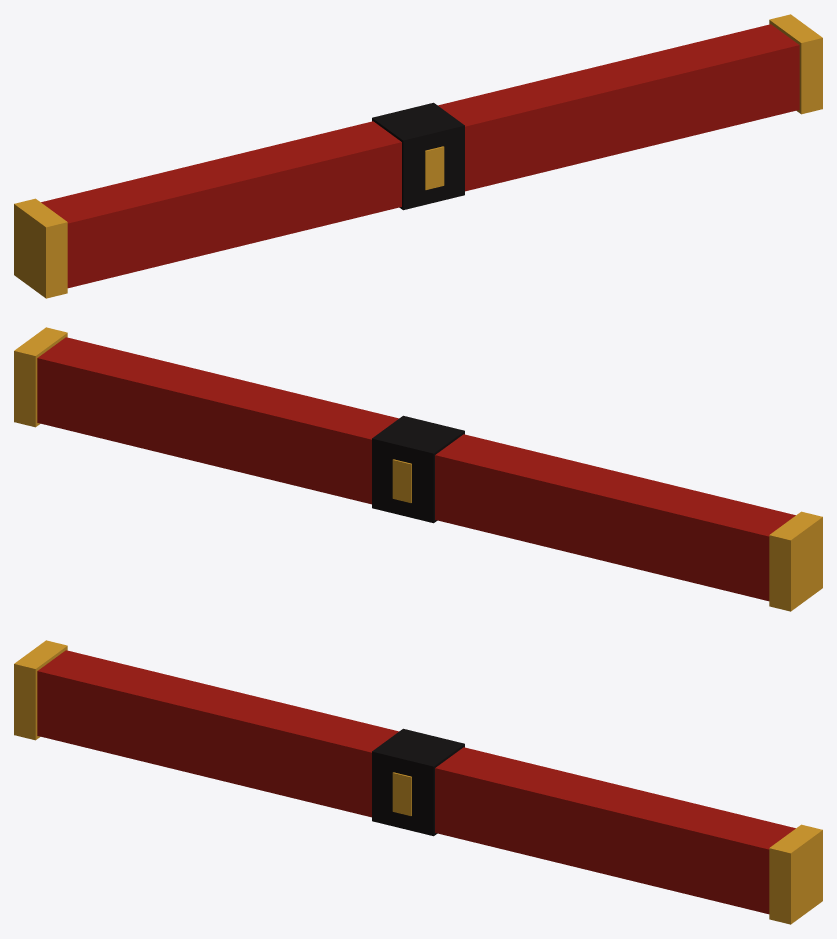
The model's file is SM_Bld_Lacquer_Beam_01.fbx.
The picture shows the model from 3 angles, top to bottom: view 1: azimuth 30°, elevation 25°; view 2: azimuth 150°, elevation 25°; view 3: azimuth 330°, elevation 25°; orthographic projection.
Visible parts, largest first — view 1: SM_Bld_Lacquer_Beam_01; view 2: SM_Bld_Lacquer_Beam_01; view 3: SM_Bld_Lacquer_Beam_01.
Boxes of the visible parts, bbox=[...] form: SM_Bld_Lacquer_Beam_01: bbox=[14, 14, 822, 298]; SM_Bld_Lacquer_Beam_01: bbox=[14, 327, 822, 611]; SM_Bld_Lacquer_Beam_01: bbox=[14, 640, 822, 924].
Size of the model in its own units: 5.02 by 0.44 by 0.37.
Materials: 1 (1 with a texture image).
